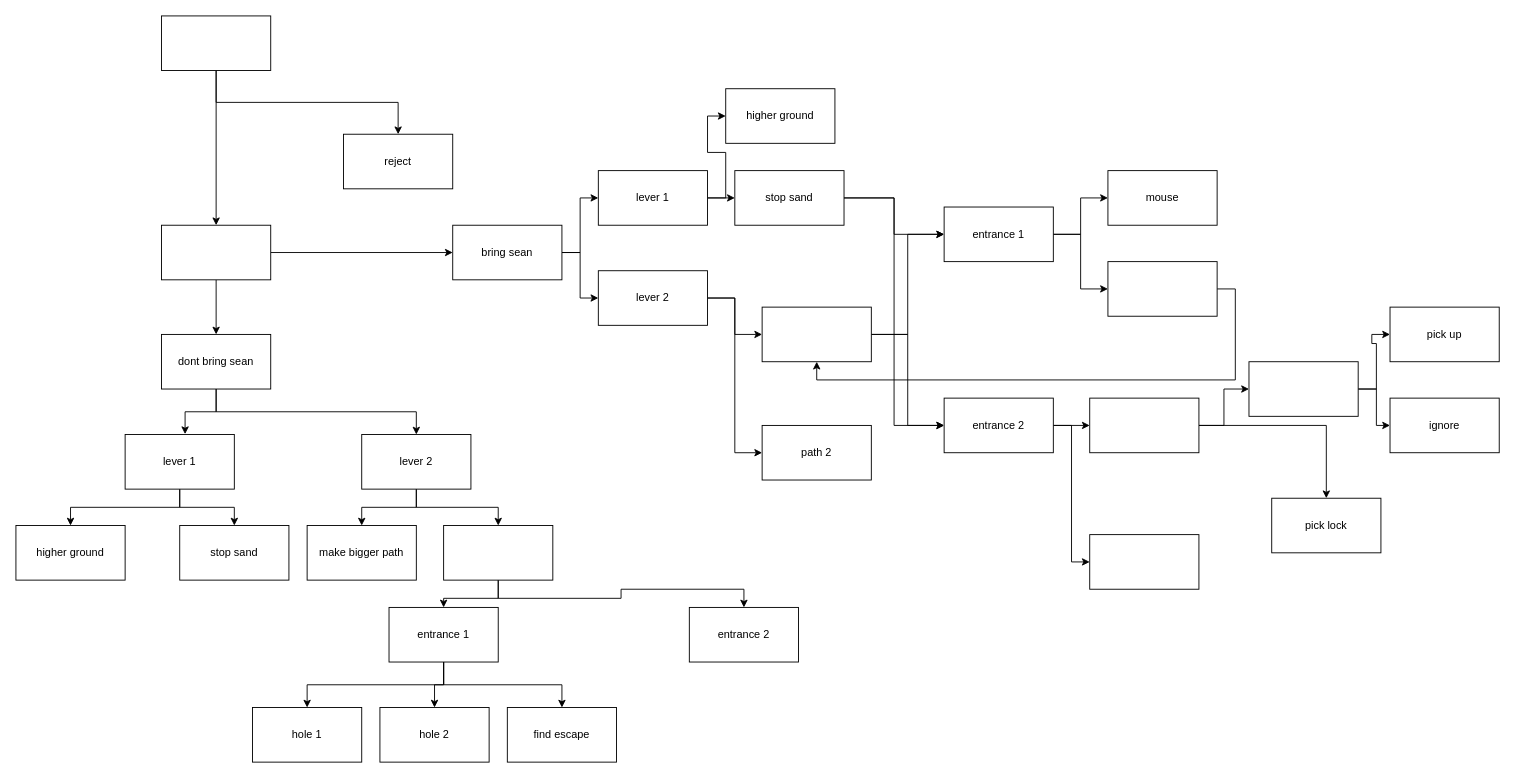
The diagram is 1515 pixels wide and 778 high, and some of its shapes have lost their labels. The shapes that lost their labels are listed below. From the top down, each one's centre as x and y in pixels, then its label:
point 216,43: start
point 216,252: accept
point 1162,288: cricket
point 816,334: path 1
point 1303,388: puzzle
point 1144,425: attempt
point 498,552: continue
point 1144,561: leave
